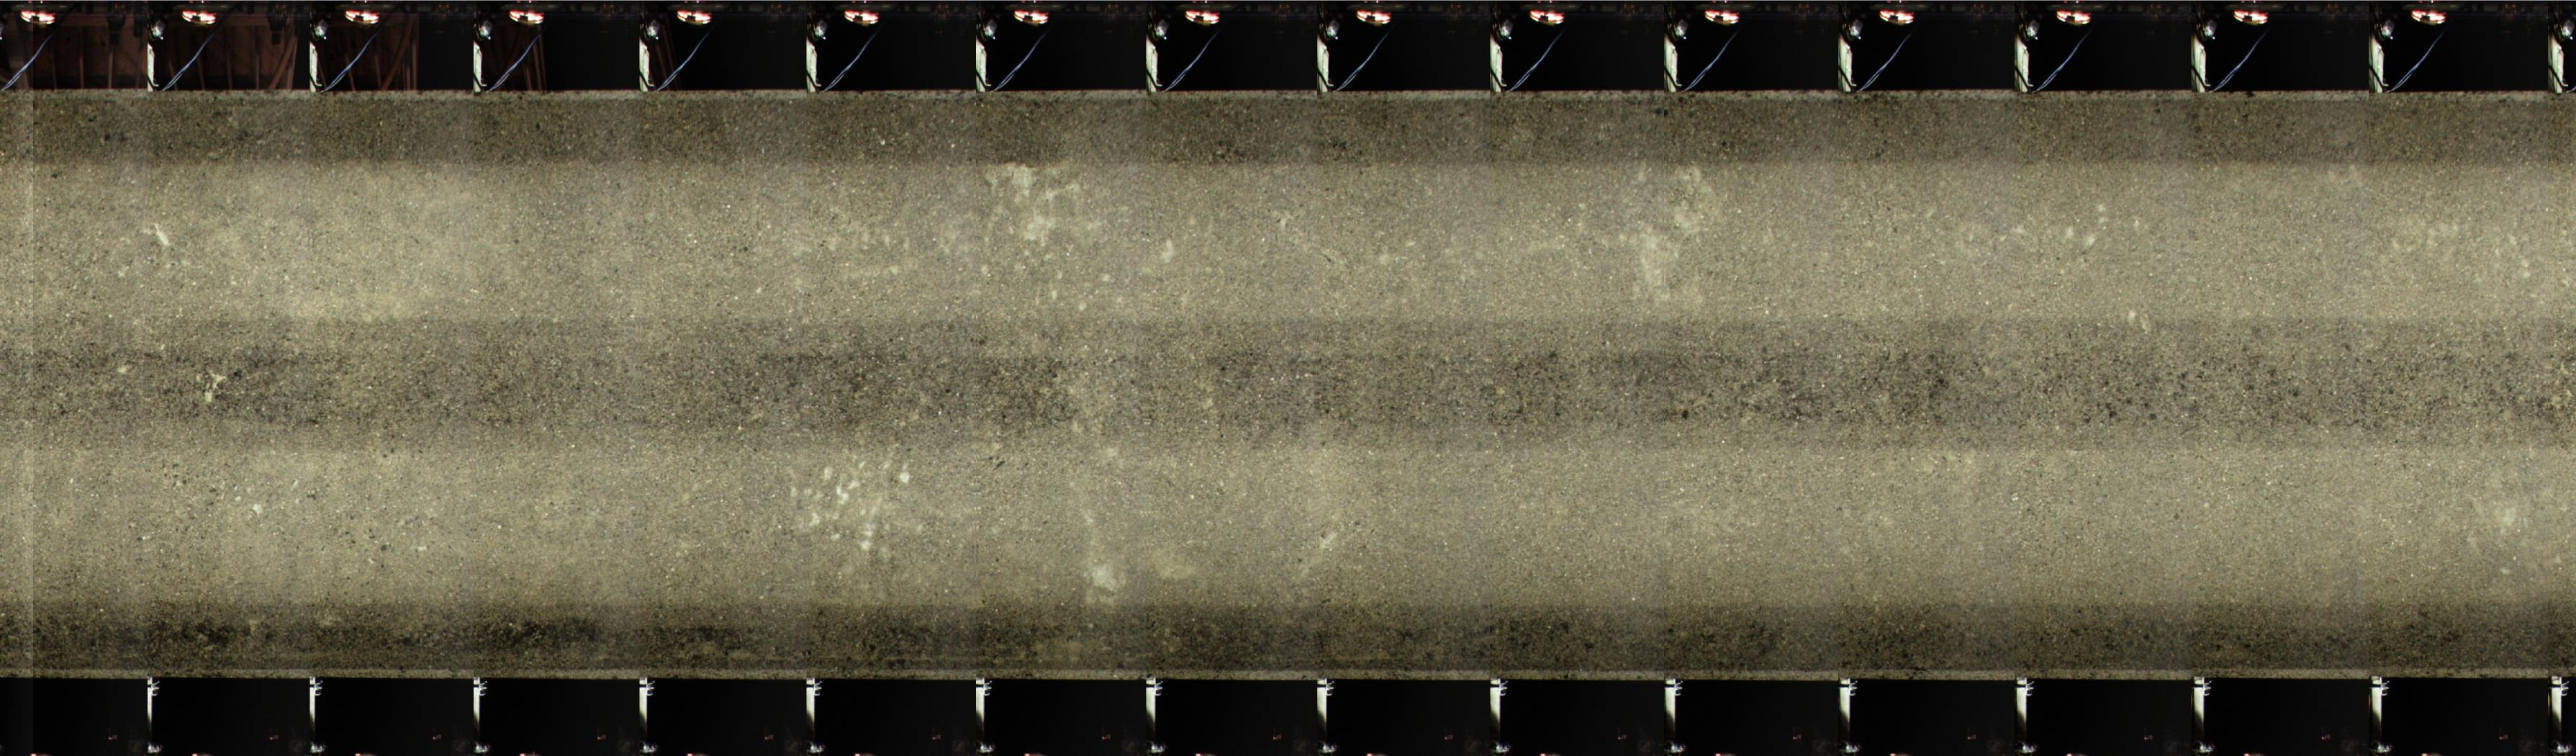concrete: (0, 87, 2568, 675)
